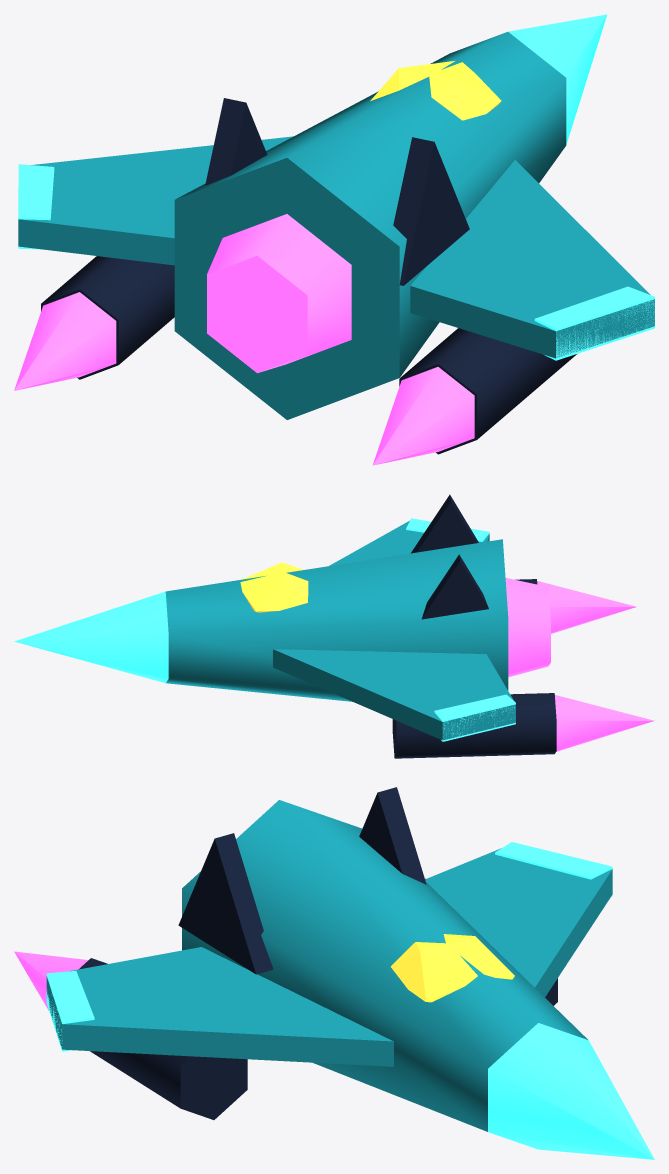
The model's file is ship.glb.
The picture shows the model from 3 angles, top to bottom: view 1: azimuth 30°, elevation 25°; view 2: azimuth 150°, elevation 25°; view 3: azimuth 270°, elevation 25°; orthographic projection. The views are drawn at different scales.
Parts seen in each view (by area): view 1: hull, wing-left, thruster-core, wing-right, engine-left, engine-right, thruster-right, thruster-left, fin-left, nose, cockpit, wing-edge-left (+2 smaller); view 2: hull, wing-right, nose, engine-right, thruster-core, thruster-right, cockpit, thruster-left, fin-right, fin-left, wing-left, wing-edge-right (+1 smaller); view 3: hull, wing-left, nose, wing-right, fin-left, engine-left, cockpit, fin-right, wing-edge-left, wing-edge-right, thruster-left.
Boxes of the visible parts, x1=… form: hull: x1=174, y1=32, x2=566, y2=419; wing-left: x1=410, y1=160, x2=654, y2=358; thruster-core: x1=207, y1=214, x2=351, y2=373; wing-right: x1=18, y1=136, x2=293, y2=265; engine-left: x1=399, y1=328, x2=576, y2=454; engine-right: x1=41, y1=256, x2=174, y2=379; thruster-right: x1=14, y1=292, x2=116, y2=390; thruster-left: x1=372, y1=367, x2=474, y2=465; fin-left: x1=393, y1=137, x2=469, y2=285; nose: x1=508, y1=14, x2=607, y2=144; cockpit: x1=370, y1=60, x2=501, y2=120; wing-edge-left: x1=534, y1=286, x2=654, y2=360; hull: x1=165, y1=539, x2=508, y2=701; wing-right: x1=273, y1=649, x2=515, y2=740; nose: x1=14, y1=591, x2=168, y2=682; engine-right: x1=392, y1=693, x2=556, y2=758; thruster-core: x1=505, y1=578, x2=550, y2=677; thruster-right: x1=555, y1=695, x2=654, y2=751; cockpit: x1=240, y1=562, x2=308, y2=612; thruster-left: x1=537, y1=581, x2=636, y2=633; fin-right: x1=421, y1=554, x2=488, y2=619; fin-left: x1=411, y1=494, x2=478, y2=553; wing-left: x1=329, y1=520, x2=489, y2=565; wing-edge-right: x1=434, y1=694, x2=515, y2=741; hull: x1=182, y1=800, x2=587, y2=1131; wing-left: x1=46, y1=947, x2=393, y2=1066; nose: x1=488, y1=1023, x2=654, y2=1159; wing-right: x1=425, y1=848, x2=612, y2=997; fin-left: x1=178, y1=833, x2=273, y2=974; engine-left: x1=78, y1=958, x2=247, y2=1119; cockpit: x1=390, y1=934, x2=514, y2=1002; fin-right: x1=359, y1=787, x2=426, y2=884; wing-edge-left: x1=46, y1=971, x2=94, y2=1051; wing-edge-right: x1=495, y1=842, x2=612, y2=896; thruster-left: x1=14, y1=951, x2=88, y2=1010.
Bounding box in the file's own units: 3.56 × 1.22 × 2.75.
